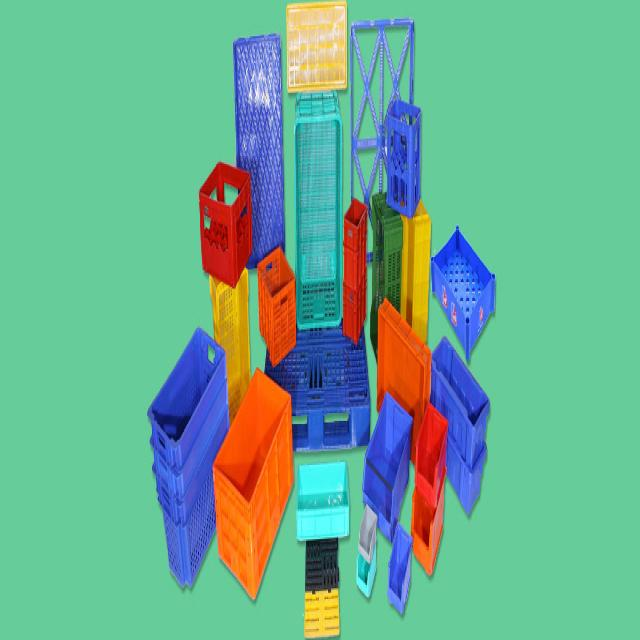basket: (176, 364, 325, 598), (142, 325, 240, 588), (418, 330, 513, 516), (401, 224, 526, 357), (233, 32, 285, 268), (293, 90, 343, 328), (374, 296, 433, 463), (359, 390, 415, 542), (409, 400, 450, 575), (198, 158, 253, 287), (209, 266, 252, 424), (368, 190, 404, 354), (286, 1, 347, 90), (399, 196, 432, 341), (257, 244, 296, 365), (385, 94, 422, 215), (297, 458, 350, 541), (343, 197, 368, 343), (387, 521, 414, 614), (357, 504, 378, 598)
